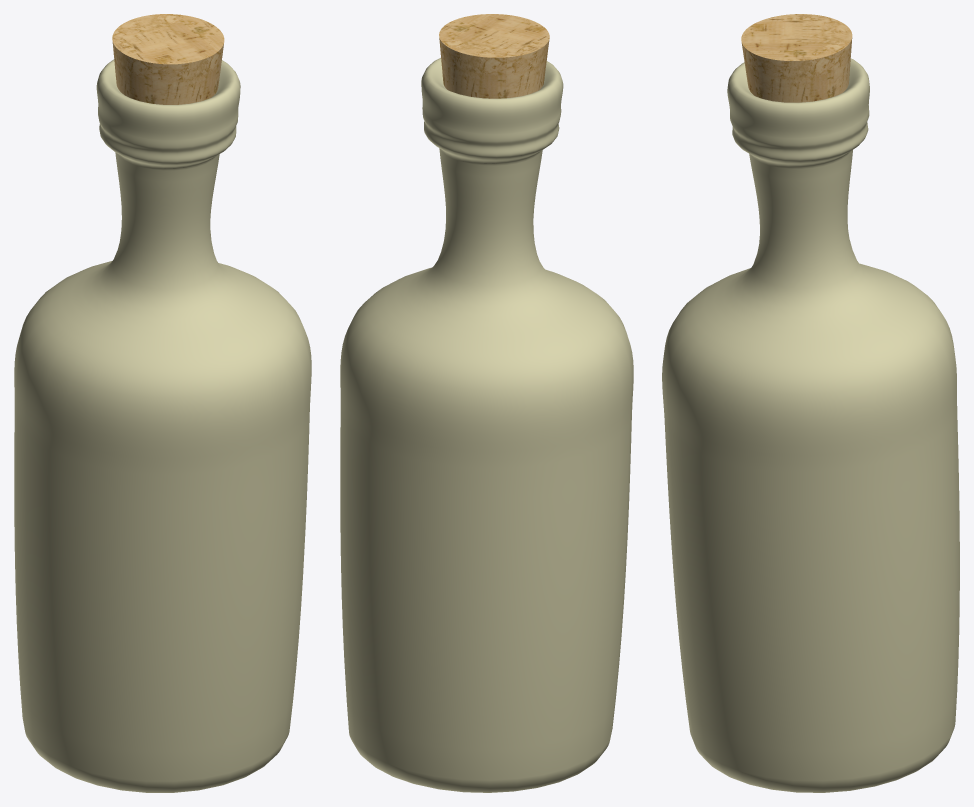
Rendered from Whiskey.obj.
3 renders of one model, left to right at view 1: azimuth 30°, elevation 25°; view 2: azimuth 150°, elevation 25°; view 3: azimuth 270°, elevation 25°, orthographic.
Parts seen in each view (by area): view 1: PB Bottle 01, PB Cork 01; view 2: PB Bottle 01, PB Cork 01; view 3: PB Bottle 01, PB Cork 01.
Part boxes in pixels (x1,y1,x2,y2): PB Bottle 01: (14,59,311,792); PB Cork 01: (112,14,224,104); PB Bottle 01: (340,58,633,792); PB Cork 01: (439,14,549,98); PB Bottle 01: (662,58,959,792); PB Cork 01: (741,14,852,102).
Bounding box in the file's own units: 7.81 × 20.81 × 7.91.
